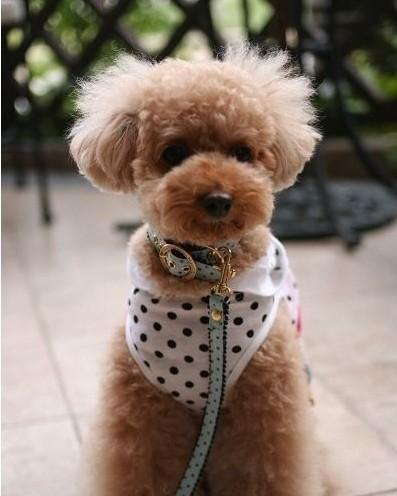dog: (60, 39, 332, 493)
